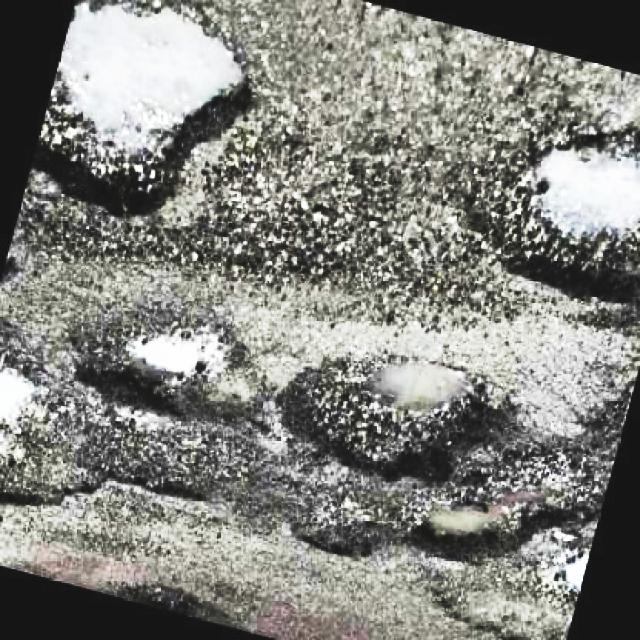pothole: (23, 0, 262, 217), (0, 358, 237, 524), (286, 342, 509, 488), (481, 116, 640, 318), (415, 448, 634, 555), (77, 308, 261, 422)
